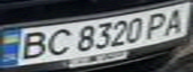0: (124, 15, 151, 44)
2: (109, 17, 133, 47)
3: (93, 20, 115, 51)
8: (75, 23, 96, 53)
A: (157, 6, 193, 36)
B: (9, 29, 54, 61)
C: (39, 26, 75, 57)
P: (139, 10, 175, 39)
